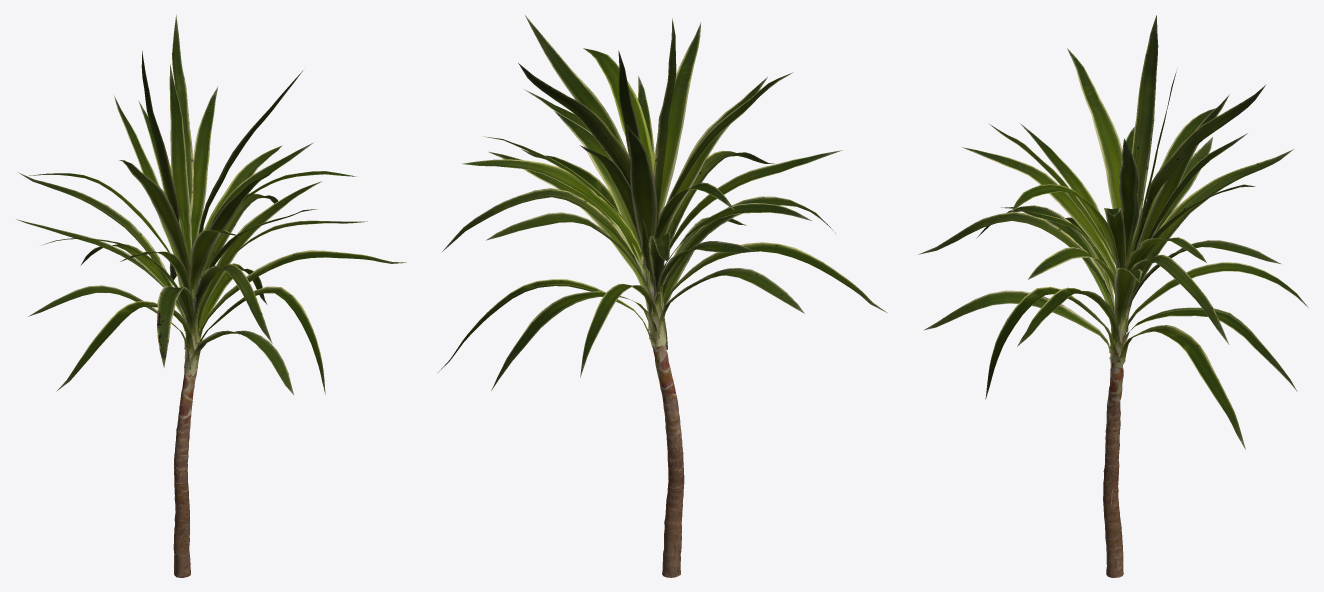
The model's file is background_plant_2.glb.
3 views of the same model, side by side, from view 1: azimuth 30°, elevation 25°; view 2: azimuth 150°, elevation 25°; view 3: azimuth 270°, elevation 25° (orthographic). The views are drawn at different scales.
Parts seen in each view (by area): view 1: _rf3o_Var1_LOD1; view 2: _rf3o_Var1_LOD1; view 3: _rf3o_Var1_LOD1.
Boxes of the visible parts, x1,y1,x2,y2 form: _rf3o_Var1_LOD1: (16, 15, 406, 577); _rf3o_Var1_LOD1: (438, 15, 886, 577); _rf3o_Var1_LOD1: (918, 15, 1308, 577).
Size of the model in its own units: 10.08 by 14.6 by 9.46.
Materials: 1 (1 with a texture image).
